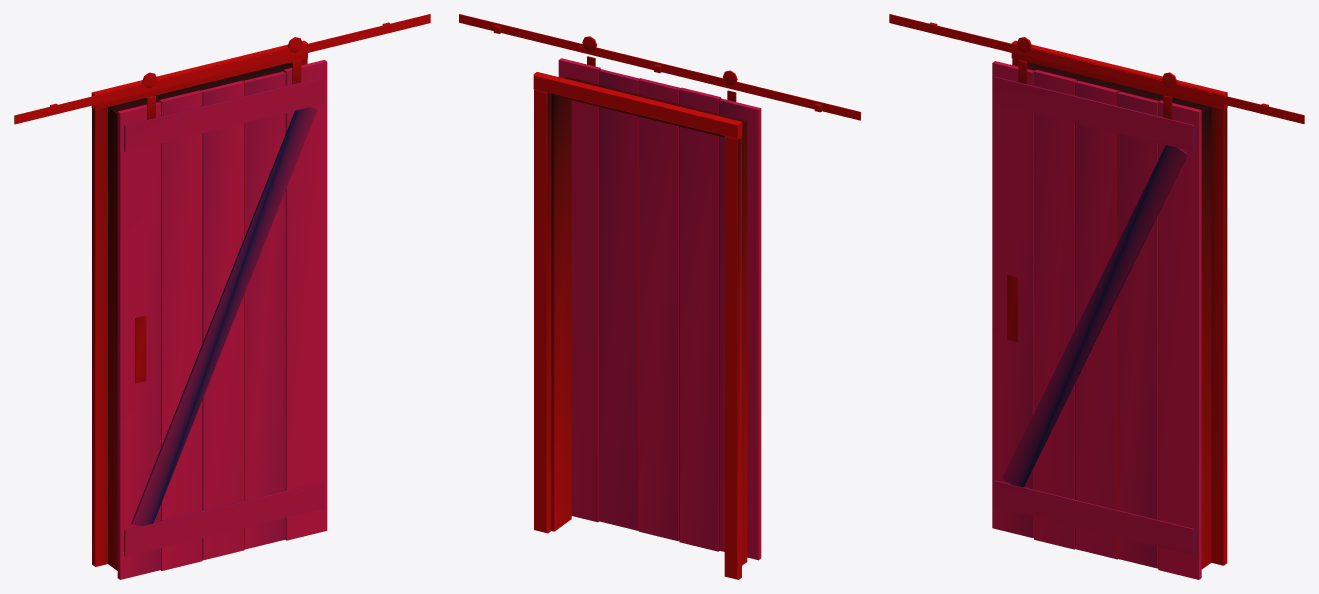
Rendered from CI_Shell_Door_Barn.glb.
3 views of the same model, side by side, from view 1: azimuth 30°, elevation 25°; view 2: azimuth 150°, elevation 25°; view 3: azimuth 330°, elevation 25° (orthographic). The views are drawn at different scales.
Visible parts, largest first — view 1: CI_Shell_Door_Barn; view 2: CI_Shell_Door_Barn; view 3: CI_Shell_Door_Barn.
Part boxes in pixels (left/top/right/bottom): CI_Shell_Door_Barn: left=14, top=14, right=430, bottom=579; CI_Shell_Door_Barn: left=459, top=14, right=860, bottom=579; CI_Shell_Door_Barn: left=889, top=14, right=1304, bottom=579.
Bounding box in the file's own units: 2 × 2.31 × 0.233.
